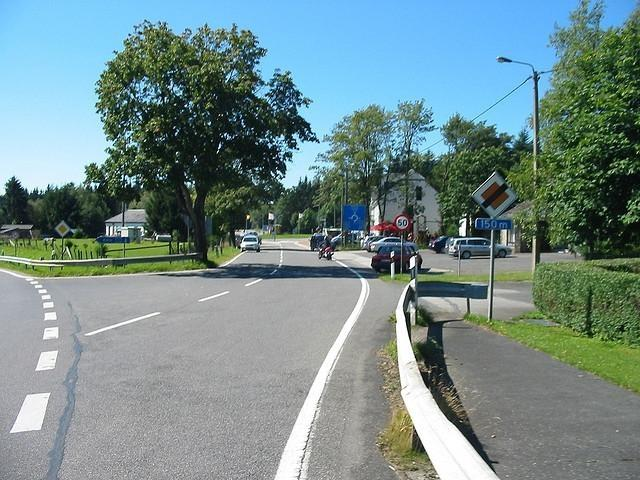car: (447, 236, 512, 260), (371, 244, 423, 273), (370, 237, 401, 252), (330, 232, 358, 248), (240, 234, 261, 253), (442, 235, 463, 254), (310, 235, 332, 251), (428, 236, 448, 252), (361, 235, 376, 250)
motorcycle: (318, 246, 334, 260)
